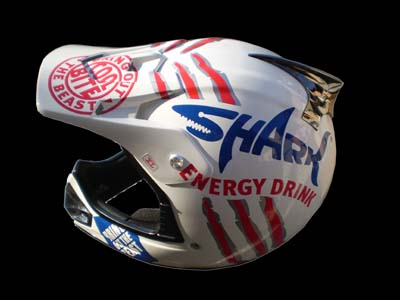helmet: (47, 49, 338, 250)
